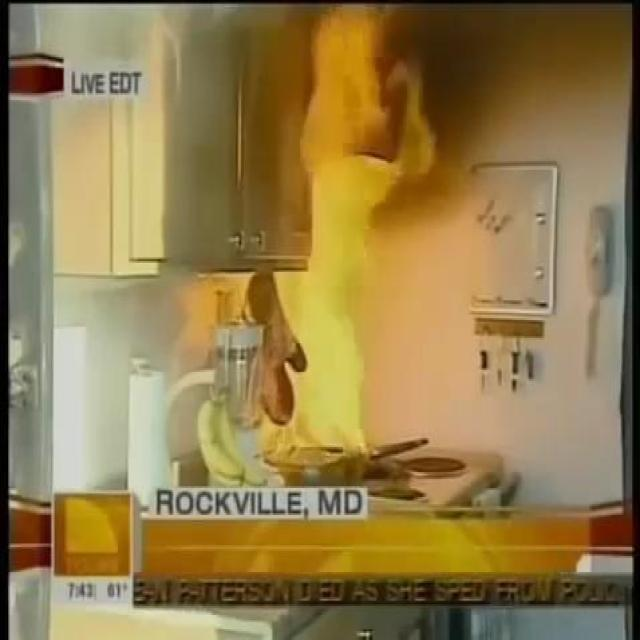fire: (8, 5, 249, 132)
smoke: (264, 8, 392, 471)
